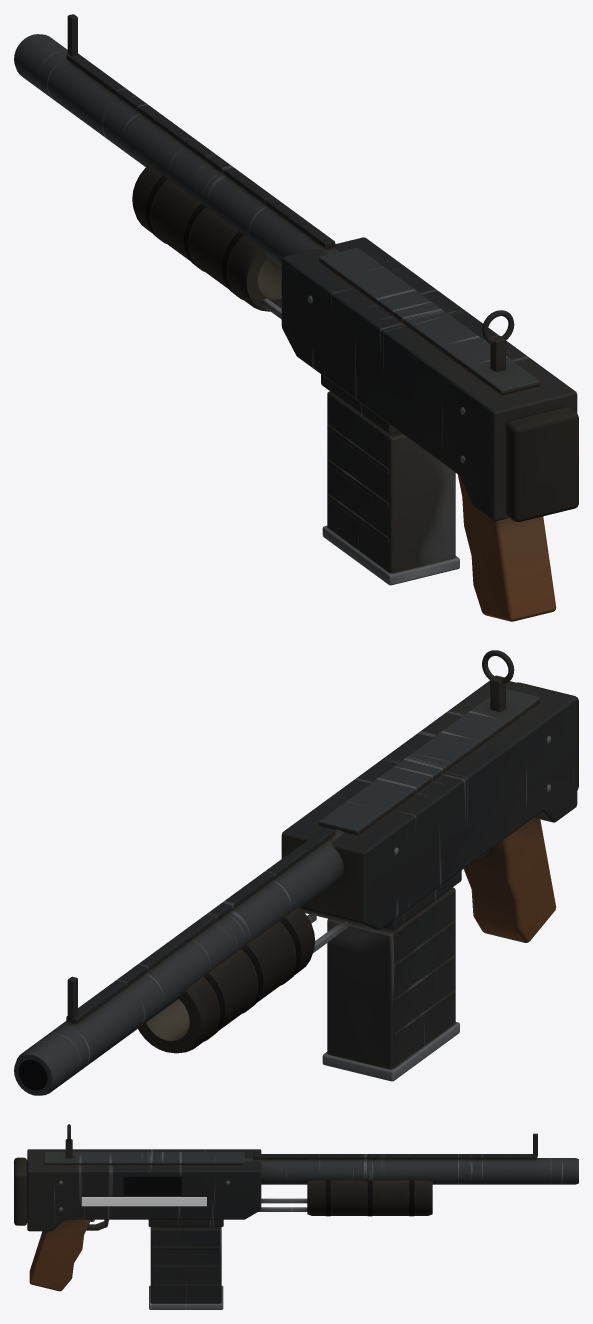
The model's file is weapon_shotgun.gltf.
3 views of the same model, one above another, from view 1: azimuth 30°, elevation 25°; view 2: azimuth 150°, elevation 25°; view 3: azimuth 270°, elevation 25° (orthographic). The views are drawn at different scales.
Parts seen in each view (by area): view 1: Body, Mag, Pump; view 2: Body, Mag, Pump; view 3: Body, Mag, Pump.
Boxes of the visible parts, x1,y1,x2,y2 form: Body: (14,14,578,621); Mag: (322,391,459,585); Pump: (132,166,281,319); Body: (14,650,578,1095); Mag: (322,887,459,1081); Pump: (138,907,348,1053); Body: (14,1124,578,1291); Mag: (149,1227,223,1309); Pump: (258,1180,432,1216).
Size of the model in its own units: 0.0668 by 0.232 by 0.676.
Materials: 9 (9 with a texture image).
